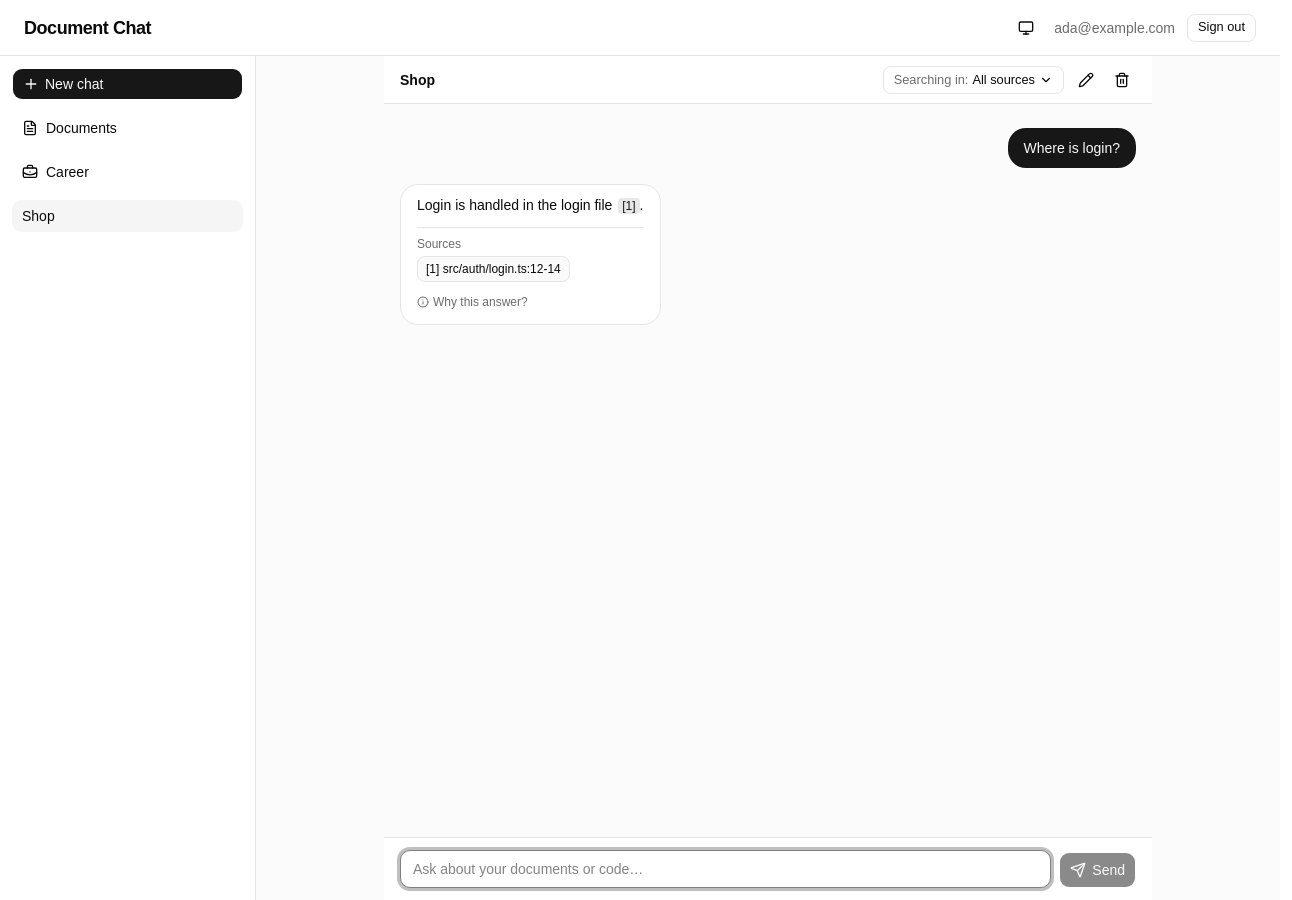
Test: a source that is a piece of code › the viewer › has no link for an uploaded archive
Step 1. Click the button named "Source 1" → [629, 206], box x1=618 y1=198 x2=640 y2=214
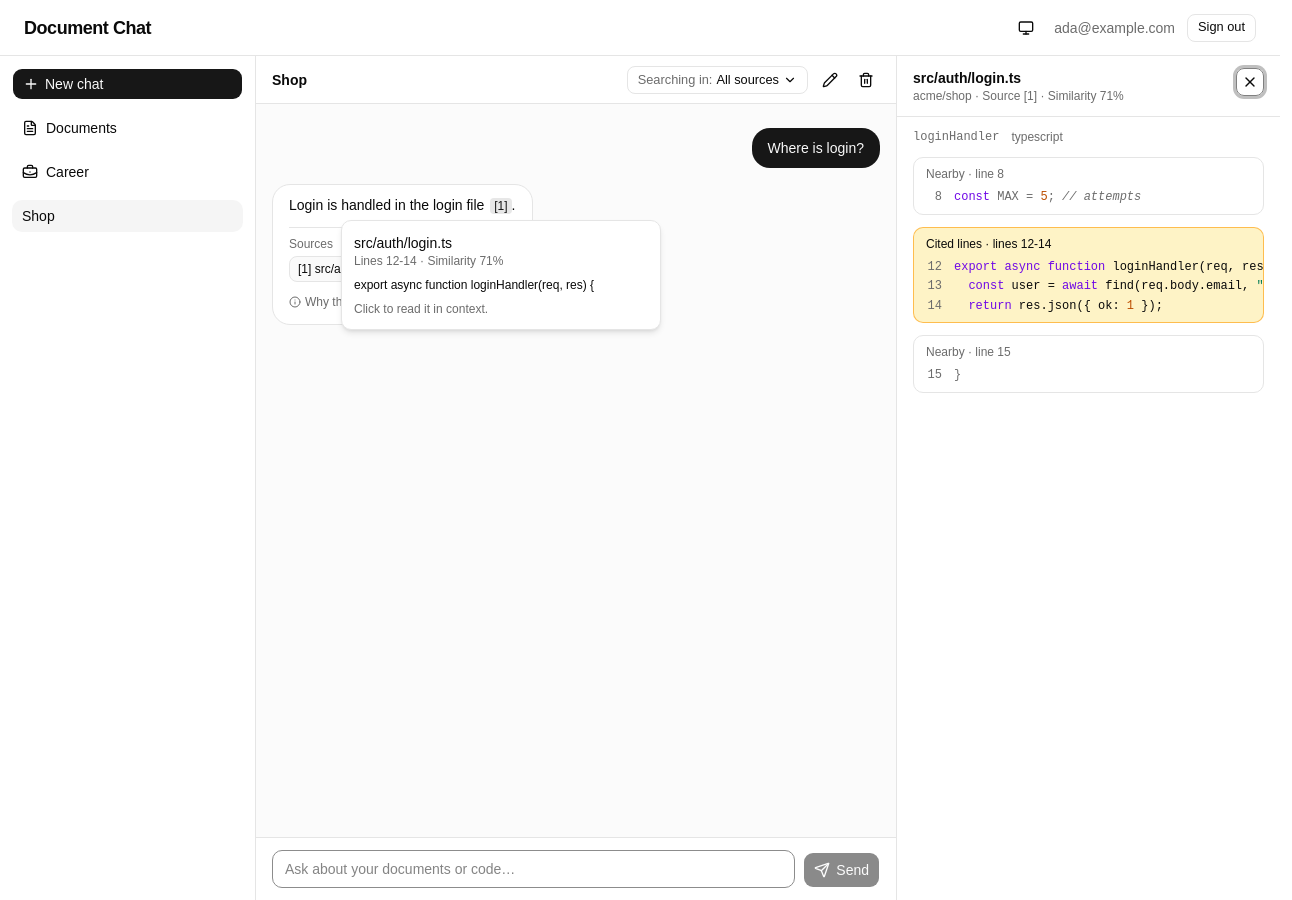
Now the element named "Cited code, lines 12-14" is shown, box x1=914 y1=252 x2=1263 y2=322
